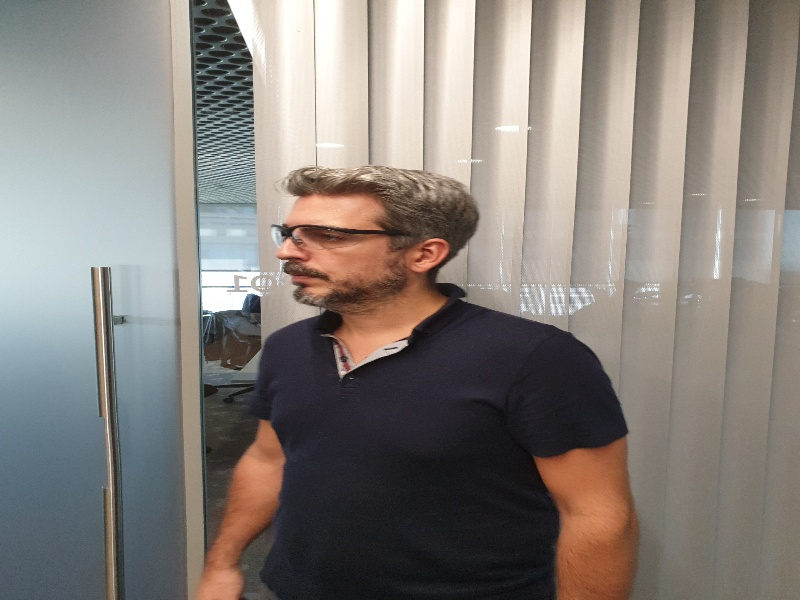Gozluk: (267, 224, 405, 248)
